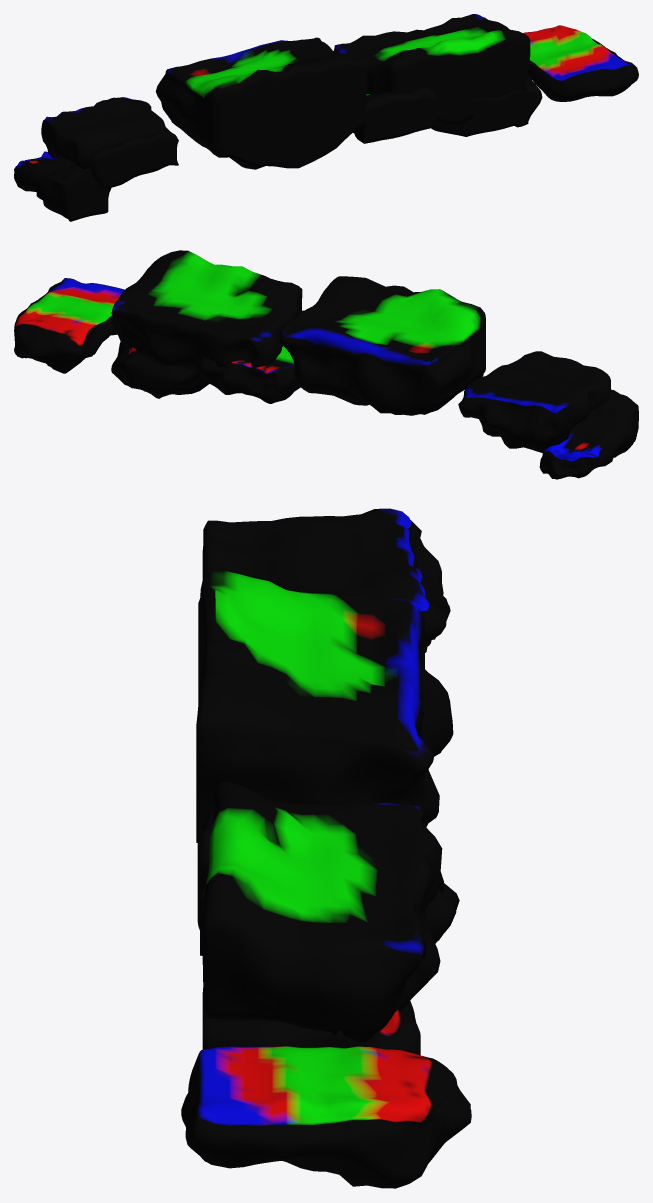
File: Plataformas (2).fbx
The picture shows the model from 3 angles, top to bottom: view 1: azimuth 30°, elevation 25°; view 2: azimuth 150°, elevation 25°; view 3: azimuth 270°, elevation 25°; orthographic projection. The views are drawn at different scales.
Visible parts, largest first — view 1: Floor_4, Floor_3, Floor_5, Floor, Floor_6, Floor_2, Floor1; view 2: Floor_4, Floor_3, Floor_5, Floor, Floor_6, Floor_2, Floor1; view 3: Floor_4, Floor_3, Floor, Floor_5, Floor1, Floor_2.
Part boxes in pixels (x1,y1,x2,y2): Floor_4: [155, 37, 367, 169]; Floor_3: [334, 14, 530, 124]; Floor_5: [41, 97, 178, 188]; Floor: [523, 25, 638, 101]; Floor_6: [14, 151, 111, 221]; Floor_2: [353, 87, 436, 143]; Floor1: [431, 77, 542, 136]; Floor_4: [279, 276, 485, 415]; Floor_3: [111, 250, 302, 374]; Floor_5: [458, 351, 610, 452]; Floor: [14, 278, 124, 373]; Floor_6: [539, 389, 638, 479]; Floor_2: [198, 310, 303, 403]; Floor1: [111, 341, 209, 398]; Floor_4: [196, 571, 453, 842]; Floor_3: [202, 782, 443, 1041]; Floor: [181, 1046, 471, 1188]; Floor_5: [202, 508, 450, 652]; Floor1: [202, 988, 420, 1055]; Floor_2: [197, 812, 459, 955].
Size of the model in its own units: 119 by 26.95 by 25.66.
